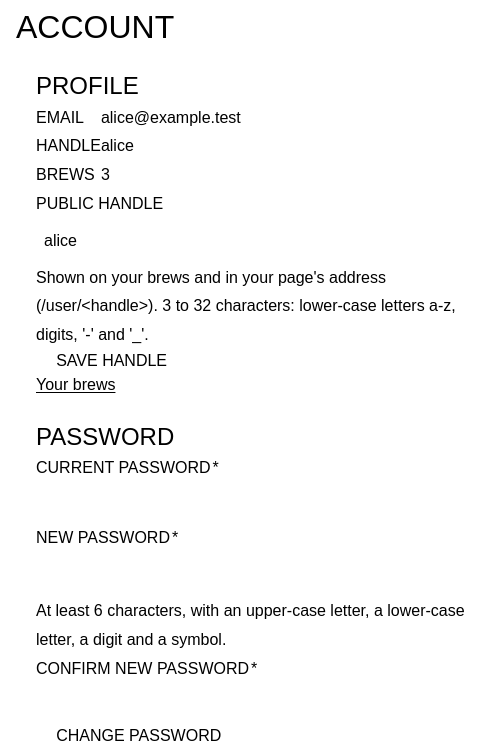
Test case: AccountPage › changes the handle and says so
Replace the text in the field labelled "Public handle" with "Alice-The-Bold" at (260, 241), box [36,223,484,260]
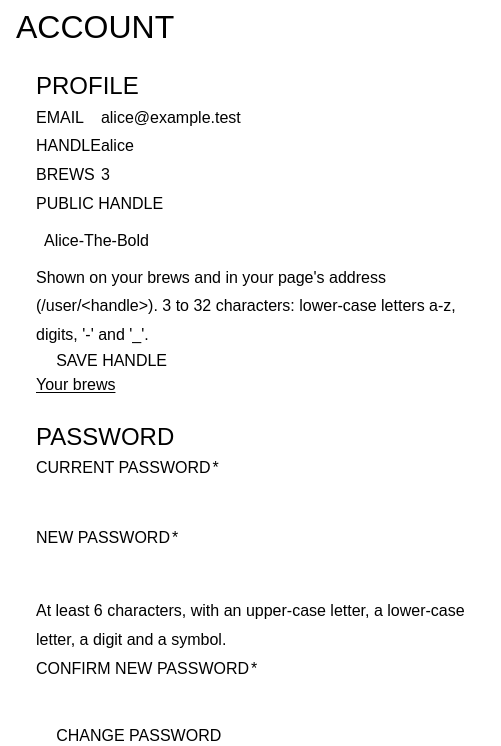
Click the button "Save handle" at (112, 361), box [36,350,187,371]
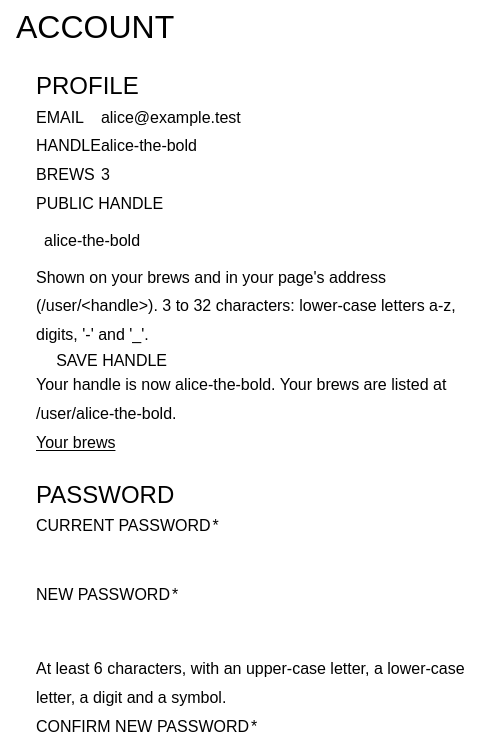
Check: the text with test id "account-handle" reads "alice-the-bold", box [101,137,197,154]
Check: the message with test id "handle-status" shows "Your handle is now alice-the-bold.", box [36,376,446,422]
